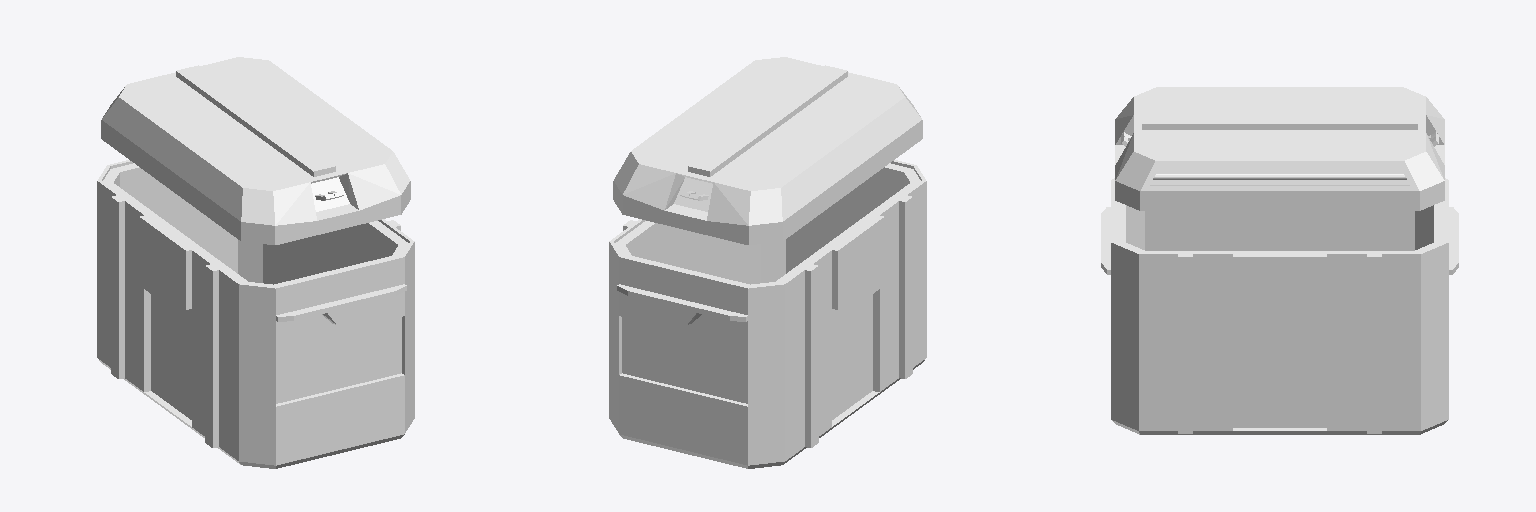
Rendered from StorageContainer.obj.
The picture shows the model from 3 angles: view 1: azimuth 30°, elevation 25°; view 2: azimuth 150°, elevation 25°; view 3: azimuth 270°, elevation 25°; orthographic projection.
Parts seen in each view (by area): view 1: Cube1, Cube1_extract2; view 2: Cube1, Cube1_extract2; view 3: Cube1, Cube1_extract2, Cylinder3.
Boxes of the visible parts, box(x1,y1,x2,y2) form: Cube1: box(97, 160, 414, 468); Cube1_extract2: box(101, 57, 410, 244); Cube1: box(609, 160, 926, 468); Cube1_extract2: box(613, 57, 922, 244); Cube1: box(1101, 178, 1458, 434); Cube1_extract2: box(1115, 87, 1444, 210); Cylinder3: box(1153, 173, 1406, 179).
Size of the model in its own units: 1.59 by 2.22 by 2.61.